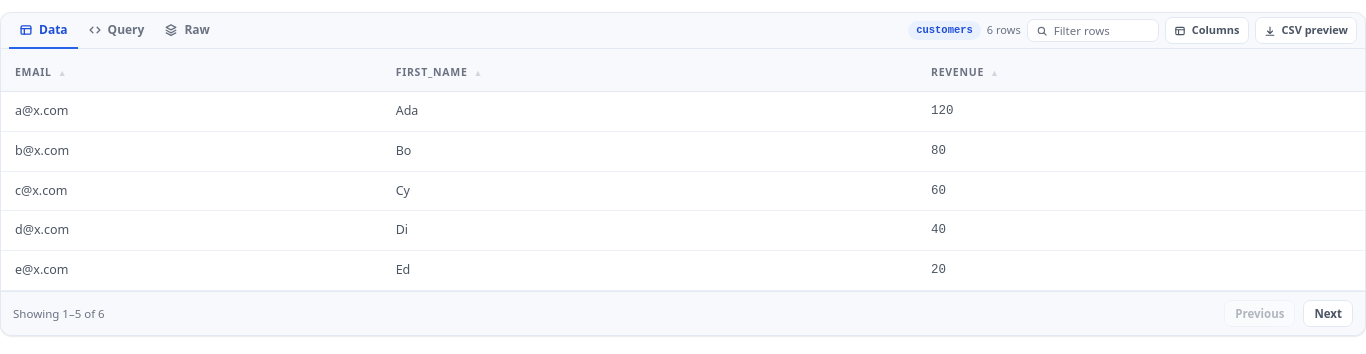
Scenario: ResultCard query and payload › hides the payload unless the agent exposes it
The image size is (1366, 354).
Click the tab "Raw": (187, 31) x1=154 y1=13 x2=220 y2=49
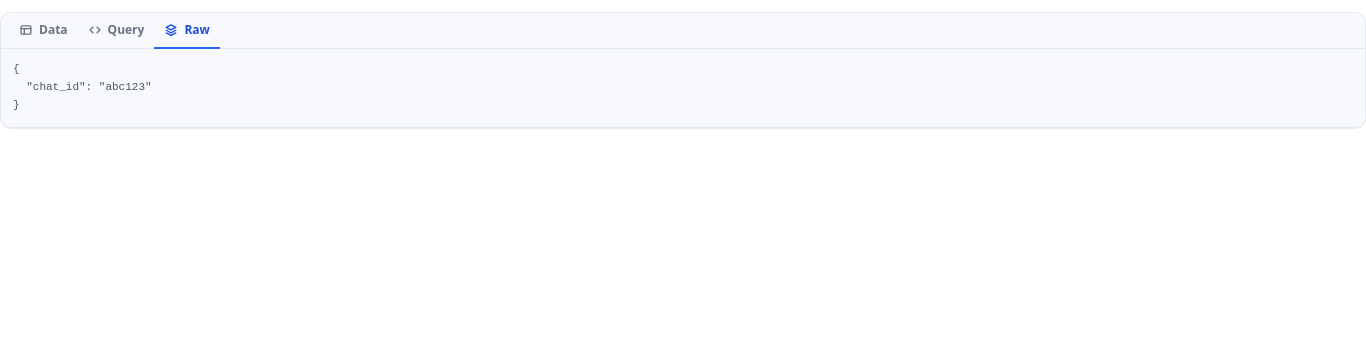
Expected: the text "{ \"chat_id\": \"abc123\" }" is shown, x1=1 y1=49 x2=1365 y2=127
